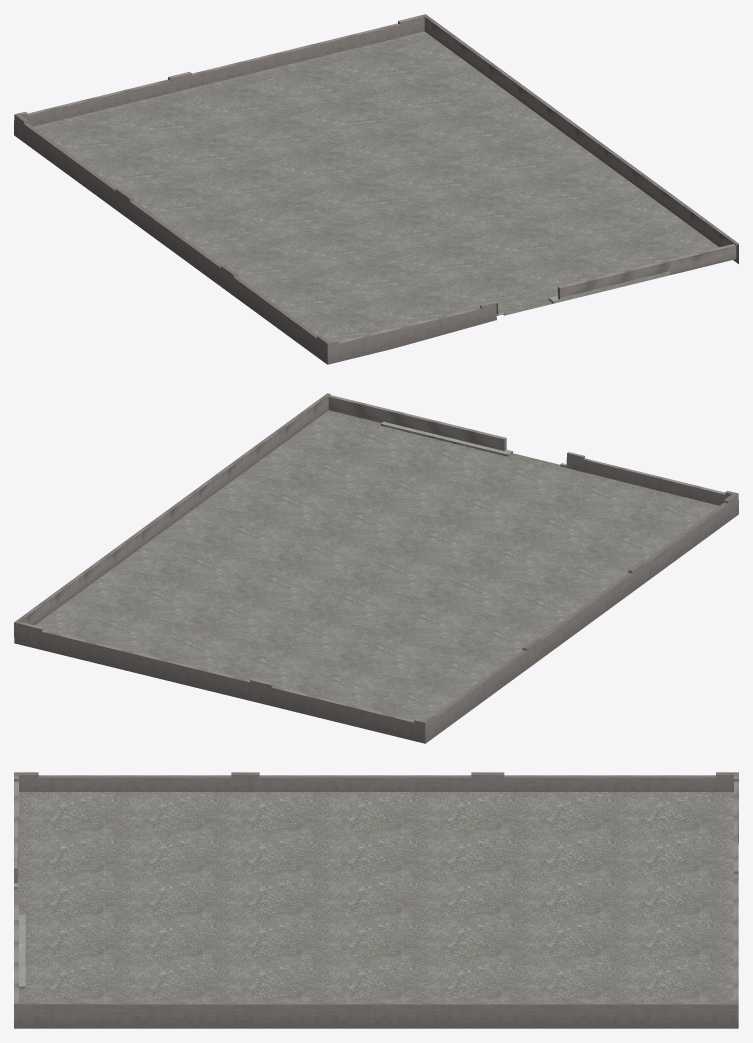
The model's file is mstorcp6_lae2.obj.
3 views of the same model, one above another, from view 1: azimuth 30°, elevation 25°; view 2: azimuth 150°, elevation 25°; view 3: azimuth 270°, elevation 25° (orthographic). The views are drawn at different scales.
Visible parts, largest first — view 1: MStorCP6_LAe2; view 2: MStorCP6_LAe2; view 3: MStorCP6_LAe2.
Part boxes in pixels (<box>): MStorCP6_LAe2: <box>14,14,738,364</box>; MStorCP6_LAe2: <box>14,393,738,743</box>; MStorCP6_LAe2: <box>14,772,738,1028</box>.
Bounding box in the file's own units: 33.17 × 1.6 × 43.77.
